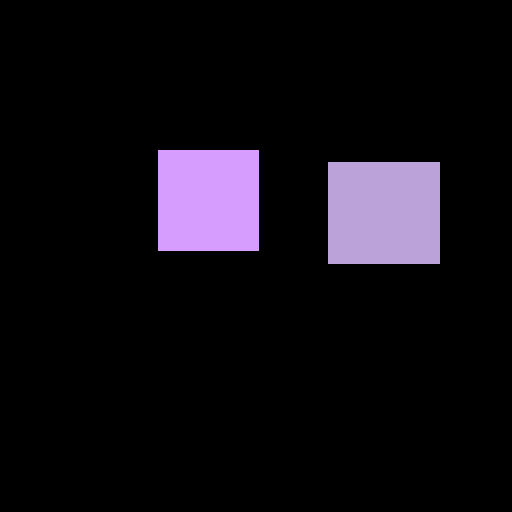square: (328, 162, 439, 263), (158, 150, 258, 250)
